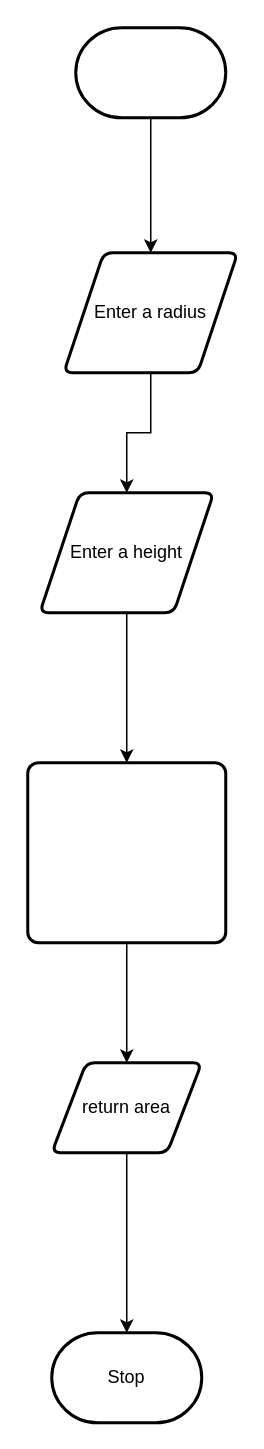
The diagram is 264 pixels wide and 1449 high, and some of its shapes have lost their labels. Each missing label, with the centre of its shape:
"Start" goes at [150,72].
"volume = math.pi * radius** 2 *height" goes at [126,852].
